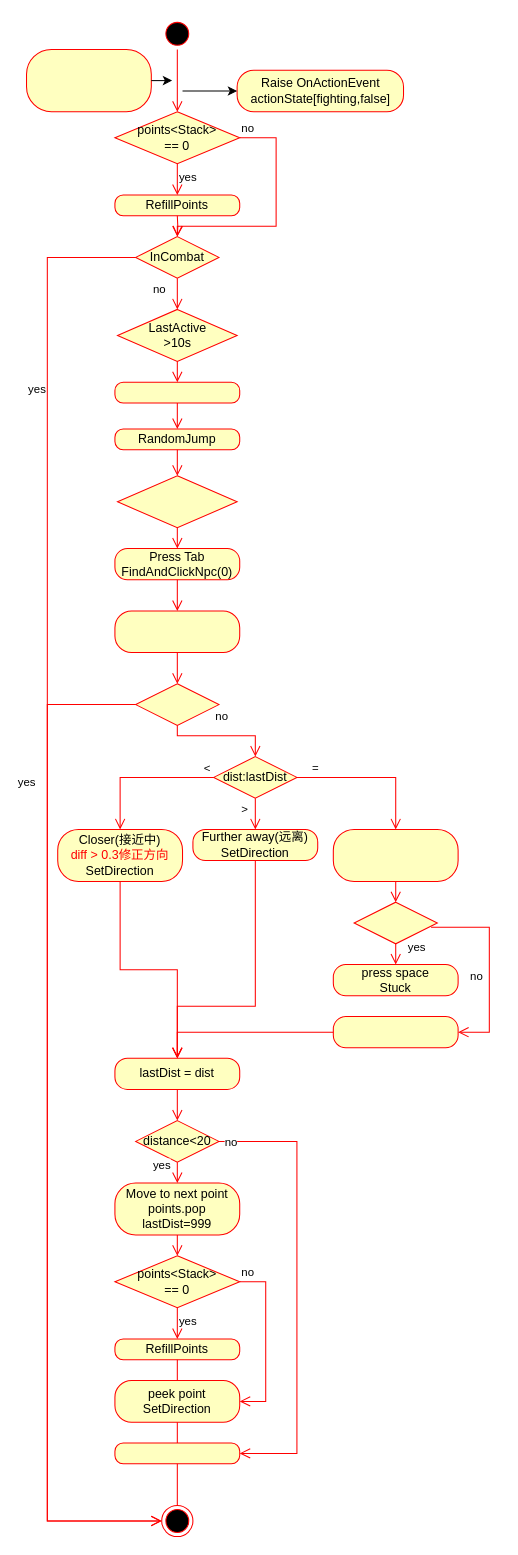
Image size: 518x1555. Some labels were removed from this diagram. The centre of each missing label's shape, as x and y in pixels:
"AdjustNextPoint *5" belongs at pixel 177 392.
"Delay(1000) Resuming movement" belongs at pixel 395 1032.
"HasTarget" belongs at pixel 177 704.
"LastActive <2s" belongs at pixel 395 922.
"lastActive = now" belongs at pixel 177 1453.
"location distance heading" belongs at pixel 177 631.
"NotInCombat&& LastTab>1.1s" belongs at pixel 176 501.
"Stuck(卡住) press down uparrow Delay(100)" belongs at pixel 395 854.
"初始化 lastDistance = 999 LastActive = now LastJump =now" belongs at pixel 88 80.
